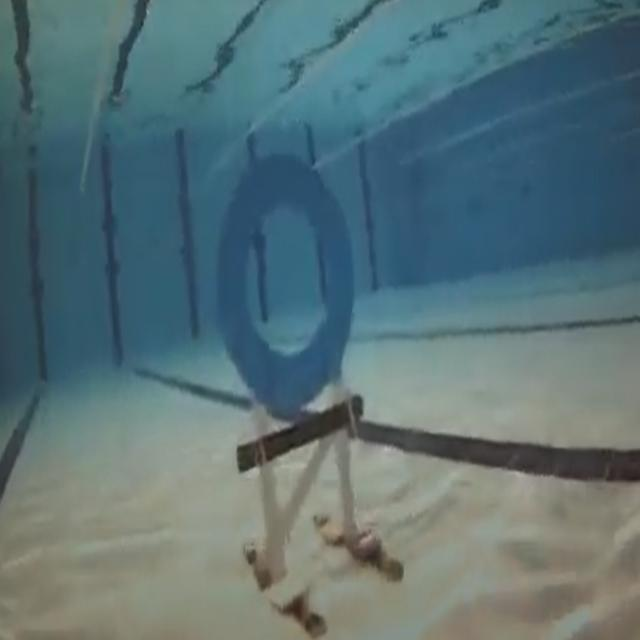Circle: (216, 143, 351, 413)
